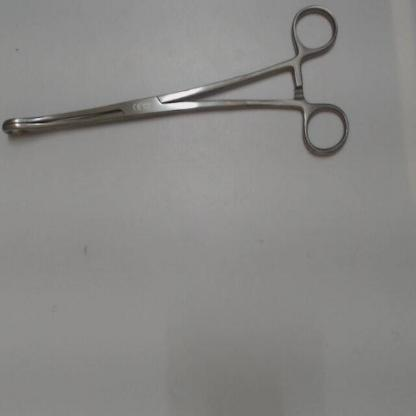Sponge Forceps: (1, 1, 354, 170)
